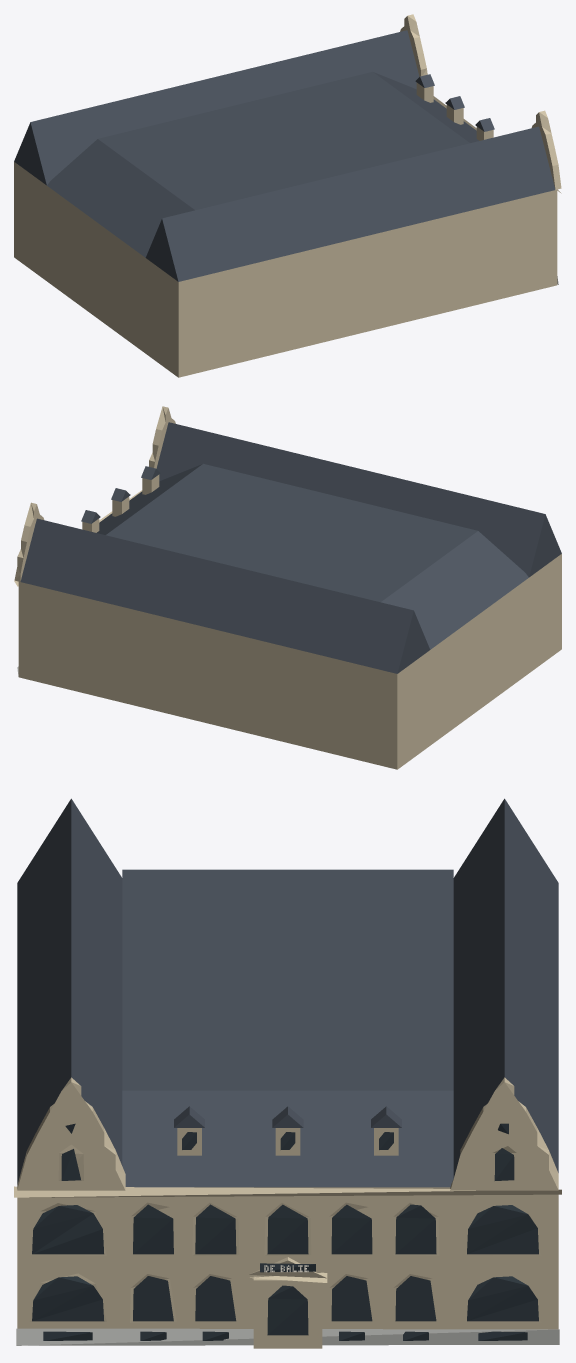
The model's file is de-balie.lod1.glb.
3 renders of one model, top to bottom at view 1: azimuth 30°, elevation 25°; view 2: azimuth 150°, elevation 25°; view 3: azimuth 270°, elevation 25°, orthographic. The views are drawn at different scales.
Visible parts, largest first — view 1: de-balie; view 2: de-balie; view 3: de-balie.
Boxes of the visible parts, x1,y1,x2,y2 form: de-balie: (14,14,561,377); de-balie: (14,406,561,769); de-balie: (14,798,561,1348).
Bounding box in the file's own units: 44.82 × 17.9 × 33.39.
